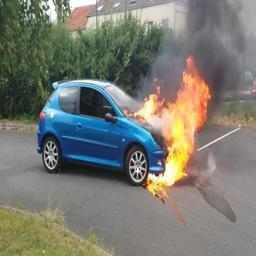fire: (135, 54, 212, 188)
